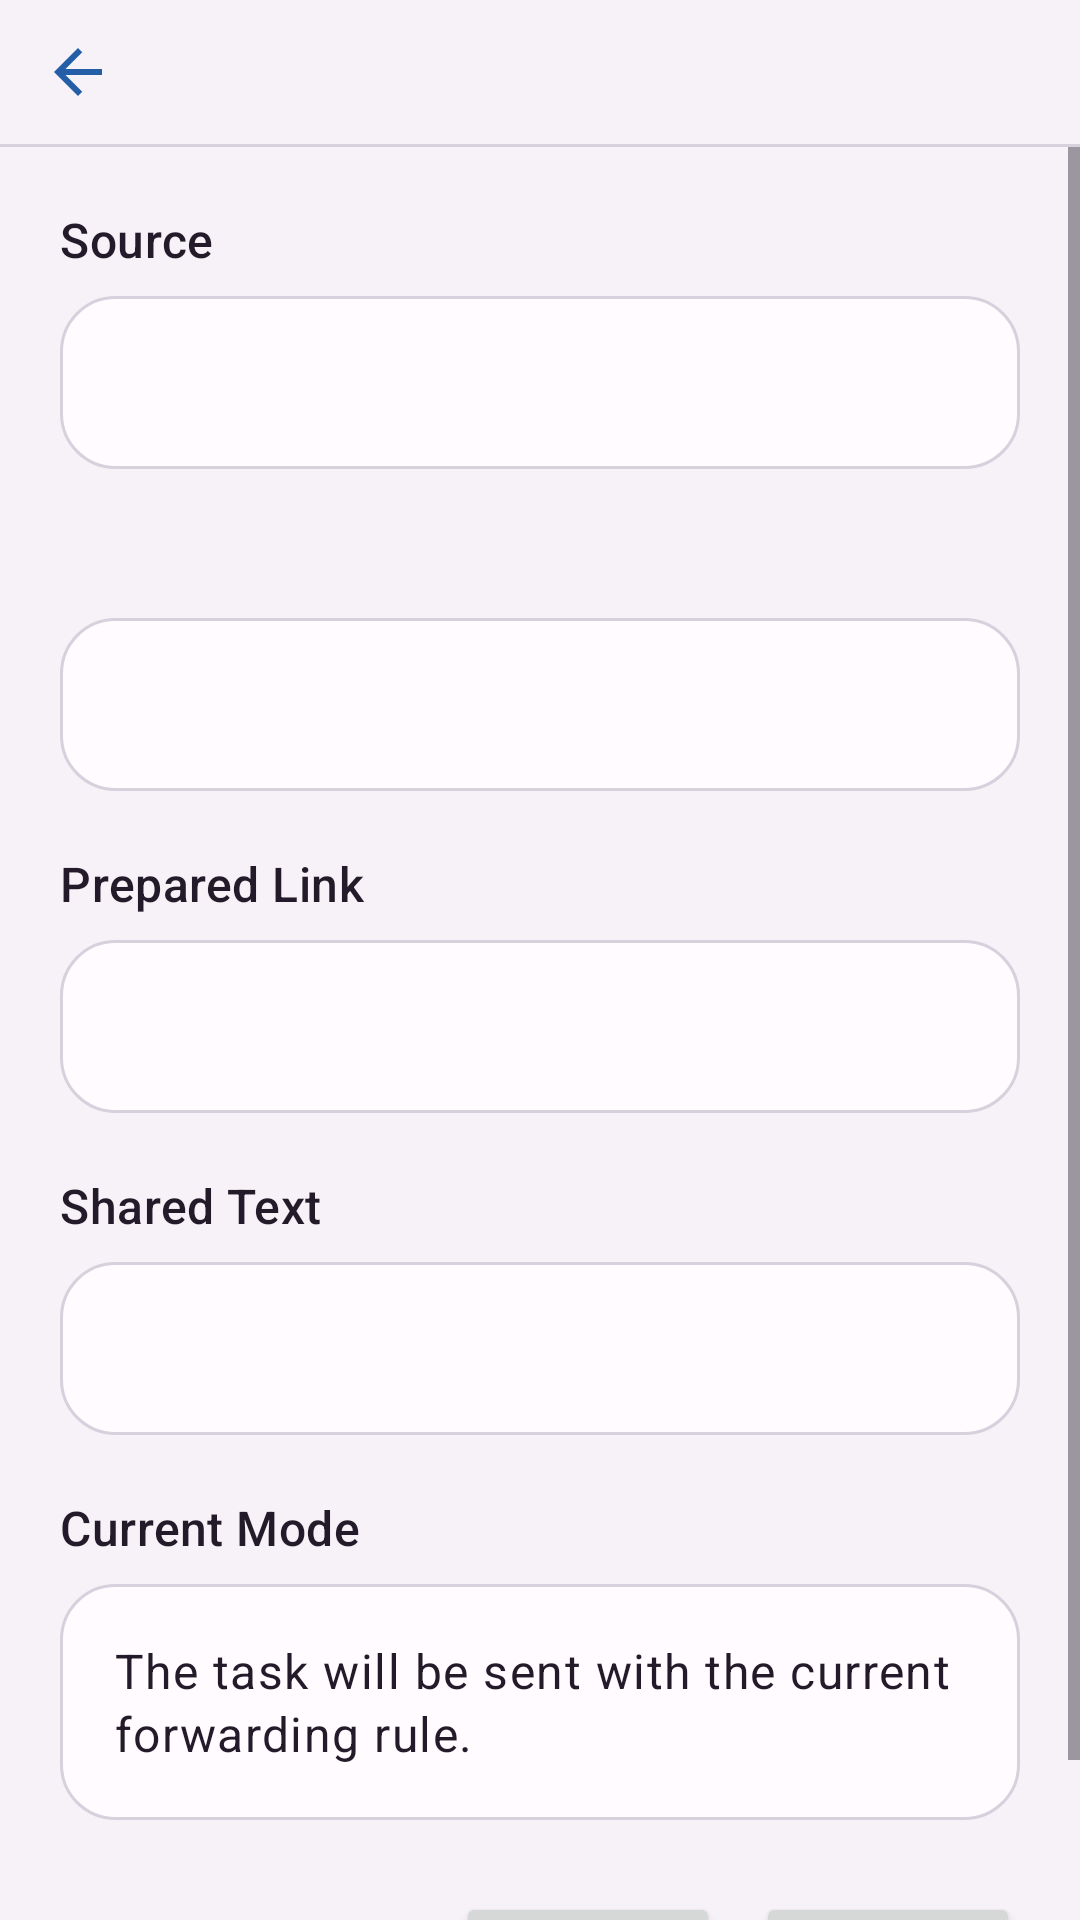

Icons on this 1080 × 1920 Android screen, each with its box as (x1, y1, x2, y2):
arrow back: (54, 48, 102, 96)
